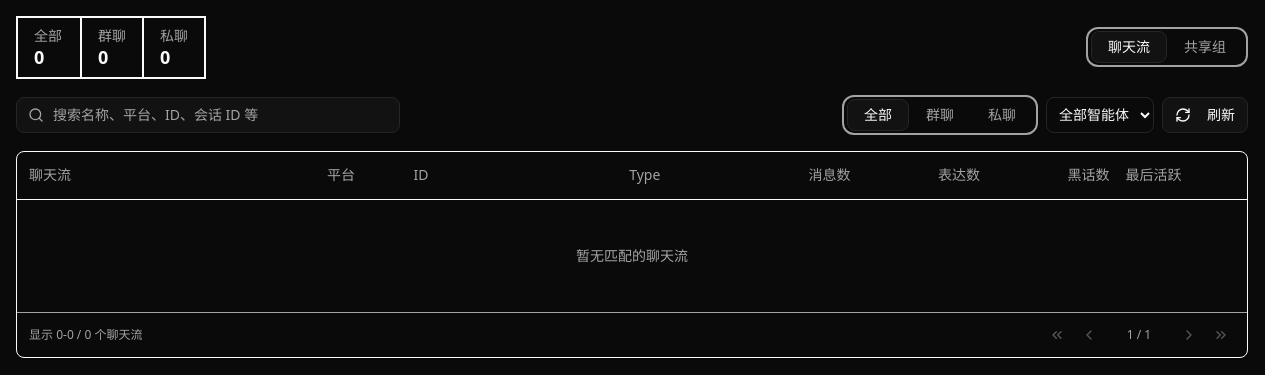
Test: ChatManagementPage › 切换到共享组视图显示共享组管理
Click the tab "共享组": click(1205, 47) [1167,31,1243,63]
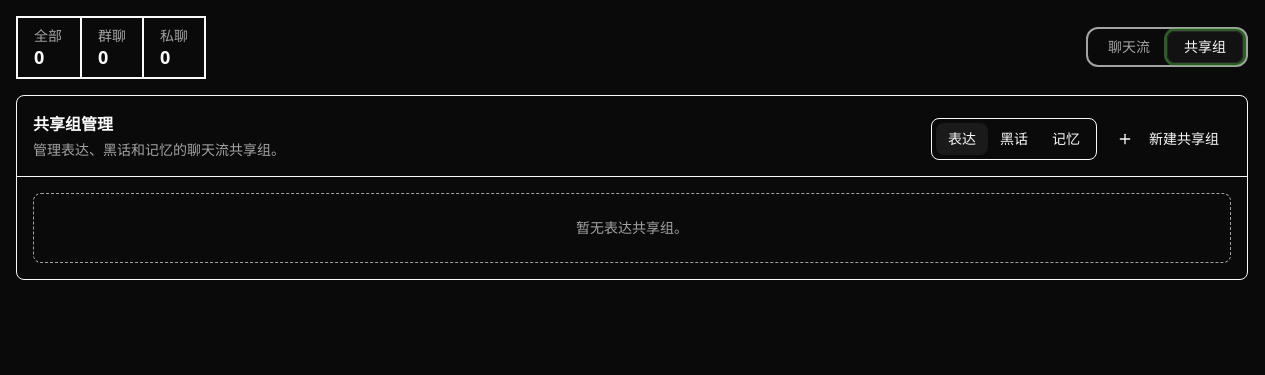
Result: the text "管理表达、黑话和记忆的聊天流共享组。" is shown at [33,140,285,160]
